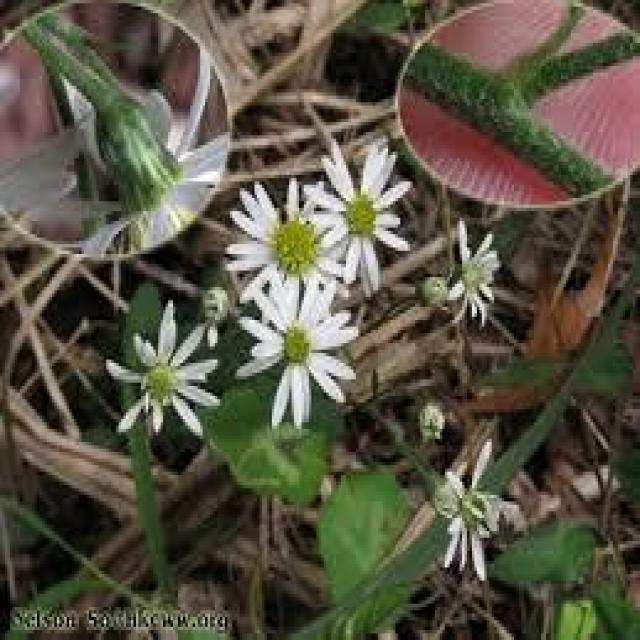organic waste: (302, 135, 412, 297), (108, 310, 226, 455), (238, 277, 359, 416), (222, 185, 346, 320), (438, 446, 501, 588), (456, 224, 495, 334)
